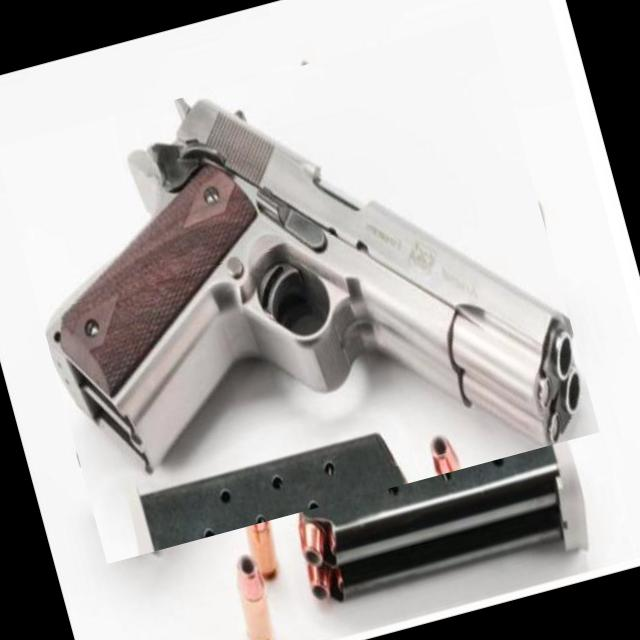Gun: (46, 99, 580, 471)
